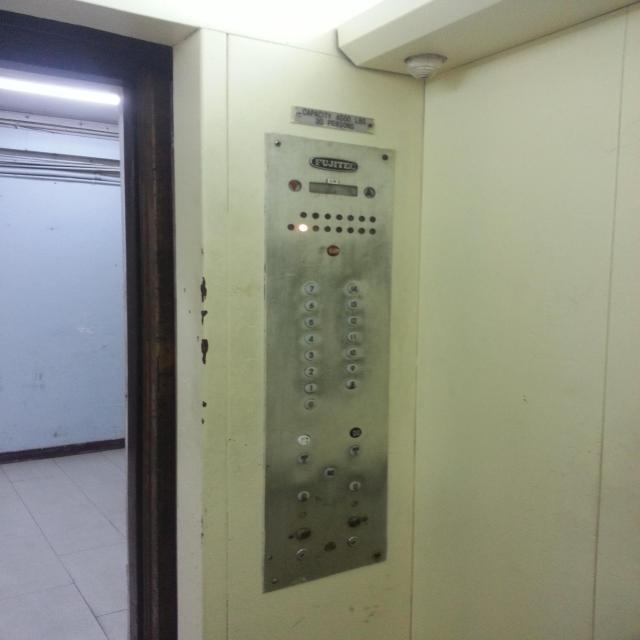1: (304, 383, 318, 393)
10: (346, 347, 358, 357)
11: (347, 331, 358, 341)
12: (347, 315, 359, 325)
13: (347, 300, 359, 308)
14: (348, 283, 360, 294)
2: (304, 366, 317, 376)
3: (304, 349, 317, 361)
4: (304, 333, 317, 344)
5: (304, 317, 318, 327)
6: (304, 300, 317, 310)
7: (304, 282, 318, 294)
9: (346, 363, 358, 373)
G: (304, 398, 316, 409)
blur: (296, 527, 311, 540), (296, 490, 312, 502), (296, 434, 312, 445), (346, 515, 359, 528), (349, 427, 362, 439), (348, 481, 361, 492), (350, 444, 361, 456), (298, 453, 310, 464), (324, 467, 336, 478), (346, 378, 358, 388)
down: (288, 178, 302, 192)
indicator: (298, 223, 308, 232), (298, 210, 308, 218), (311, 211, 320, 219), (287, 222, 295, 231), (311, 224, 320, 232), (335, 213, 343, 221), (324, 212, 331, 220), (358, 214, 365, 222), (369, 215, 376, 223), (334, 226, 342, 233), (368, 228, 376, 235), (347, 214, 354, 221), (358, 227, 365, 234), (324, 226, 331, 232), (347, 226, 353, 233)
keyhole: (347, 534, 360, 548), (296, 548, 310, 560)
text_ALARM: (326, 244, 339, 256)
up: (363, 186, 376, 198)
